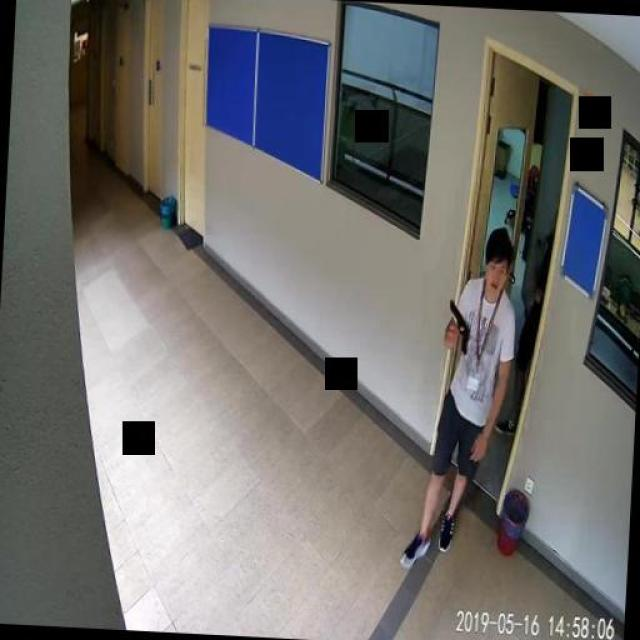gun: (445, 300, 470, 356)
